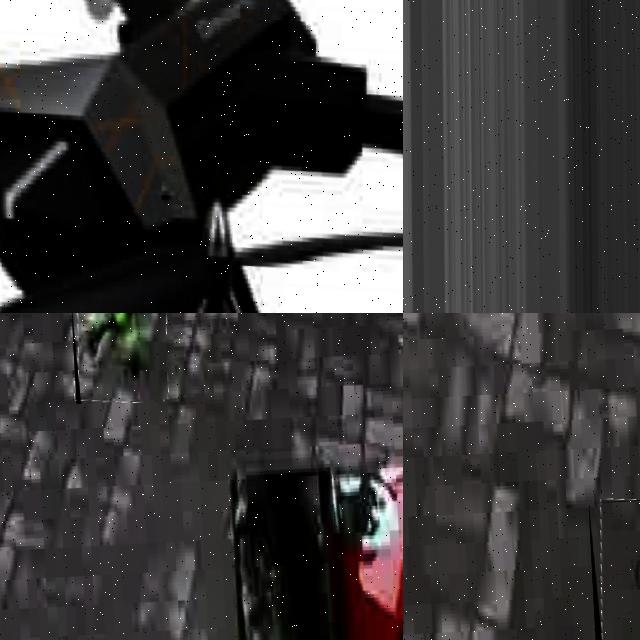0: (71, 313, 169, 404), (588, 494, 640, 640)
drone: (0, 0, 403, 313), (403, 0, 640, 313)
